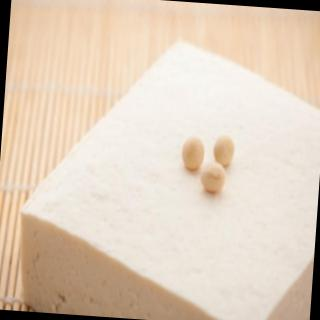Tahu: (15, 33, 320, 320)
